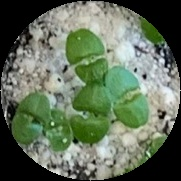Basil: (102, 64, 150, 128), (66, 27, 116, 84), (73, 85, 109, 146), (14, 91, 48, 148), (45, 111, 76, 154)
